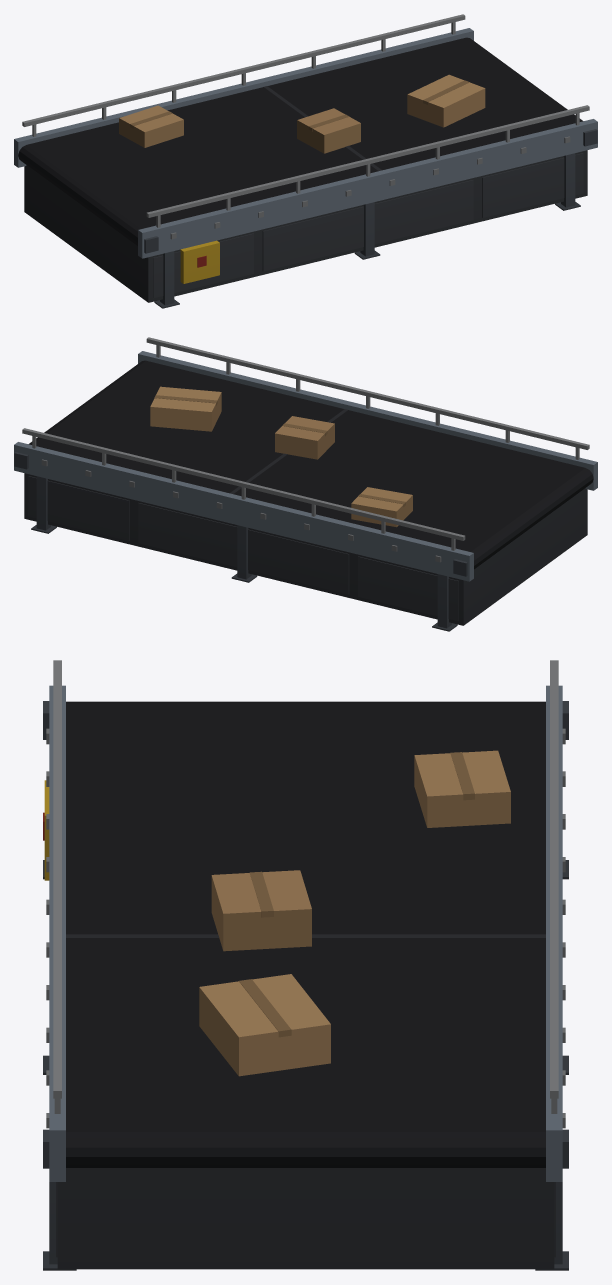
The model's file is conveyor.belt.cartons.glb.
The picture shows the model from 3 angles, top to bottom: view 1: azimuth 30°, elevation 25°; view 2: azimuth 150°, elevation 25°; view 3: azimuth 270°, elevation 25°; orthographic projection. The views are drawn at different scales.
Visible parts, largest first — view 1: conveyor_belt_cartons; view 2: conveyor_belt_cartons; view 3: conveyor_belt_cartons.
Boxes of the visible parts, left/top/right/bottom form: conveyor_belt_cartons: left=14, top=14, right=597, bottom=308; conveyor_belt_cartons: left=14, top=337, right=597, bottom=631; conveyor_belt_cartons: left=43, top=660, right=568, bottom=1270.
Size of what is drawn, in the model's own units: 5 by 1 by 2.5.
